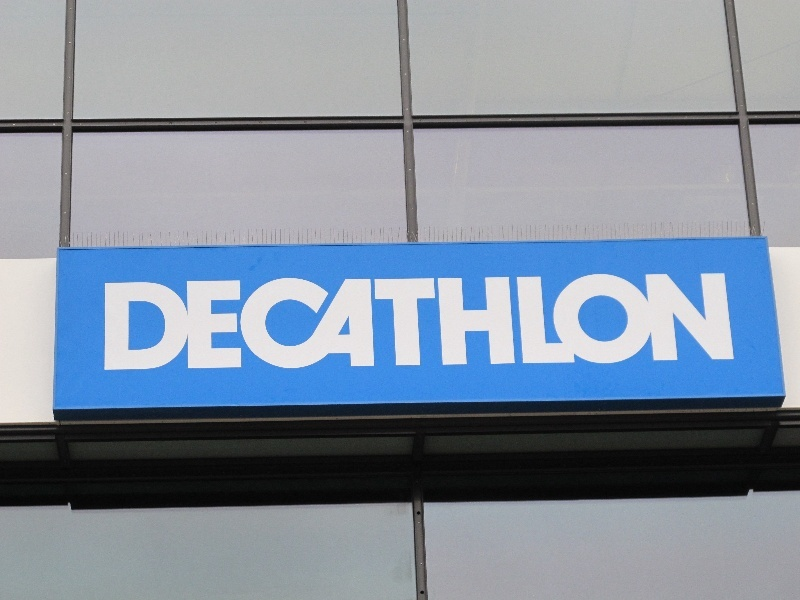text: (113, 274, 128, 372), (129, 274, 144, 372), (145, 274, 160, 372), (161, 274, 176, 372), (177, 274, 192, 372), (193, 274, 208, 372), (209, 274, 224, 372), (225, 274, 240, 372), (241, 274, 256, 372), (257, 274, 272, 372), (273, 274, 288, 372), (289, 274, 304, 372), (305, 274, 320, 372), (321, 274, 336, 372), (337, 274, 352, 372), (353, 274, 368, 372), (369, 274, 384, 372), (385, 274, 400, 372), (401, 274, 416, 372), (417, 274, 432, 372), (433, 274, 448, 372), (449, 274, 464, 372), (465, 274, 480, 372), (481, 274, 496, 372), (497, 274, 512, 372), (513, 274, 528, 372), (529, 274, 544, 372), (545, 274, 560, 372), (561, 274, 576, 372), (577, 274, 592, 372), (593, 274, 608, 372), (609, 274, 624, 372), (625, 274, 640, 372), (641, 274, 656, 372), (657, 274, 672, 372), (673, 274, 688, 372), (689, 274, 704, 372), (705, 274, 720, 372), (721, 274, 735, 372), (105, 274, 112, 372)
